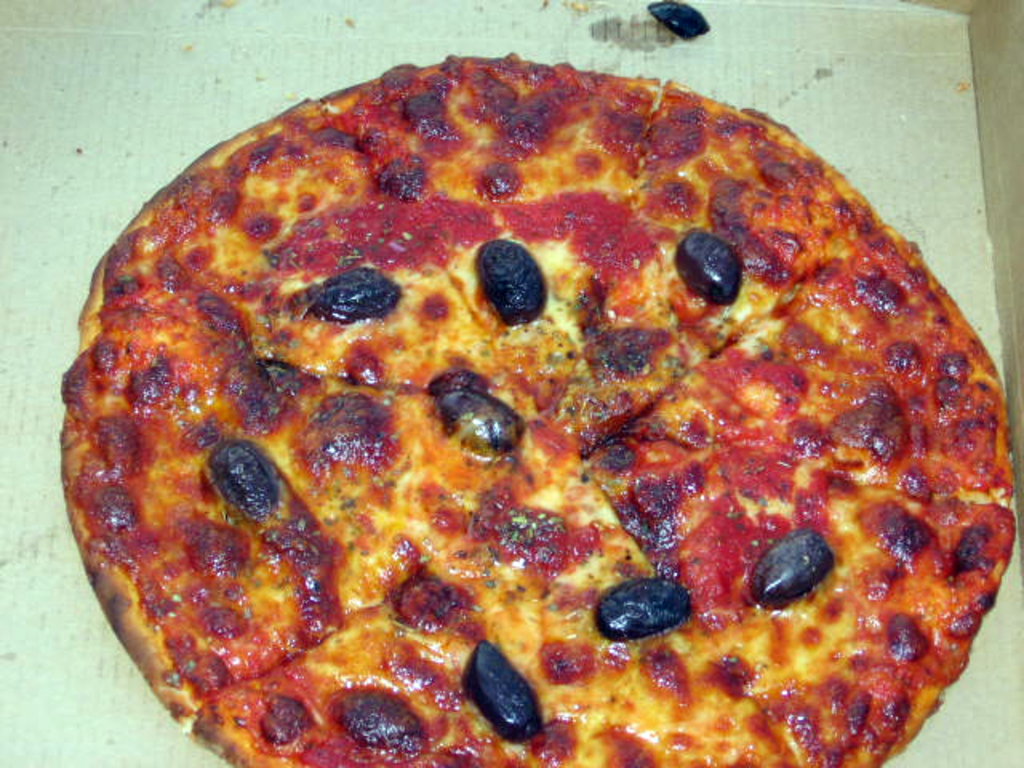Pizza: (70, 41, 1019, 758)
